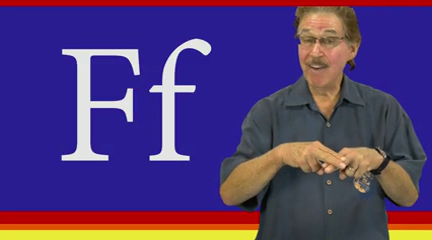F: (284, 138, 377, 188)
